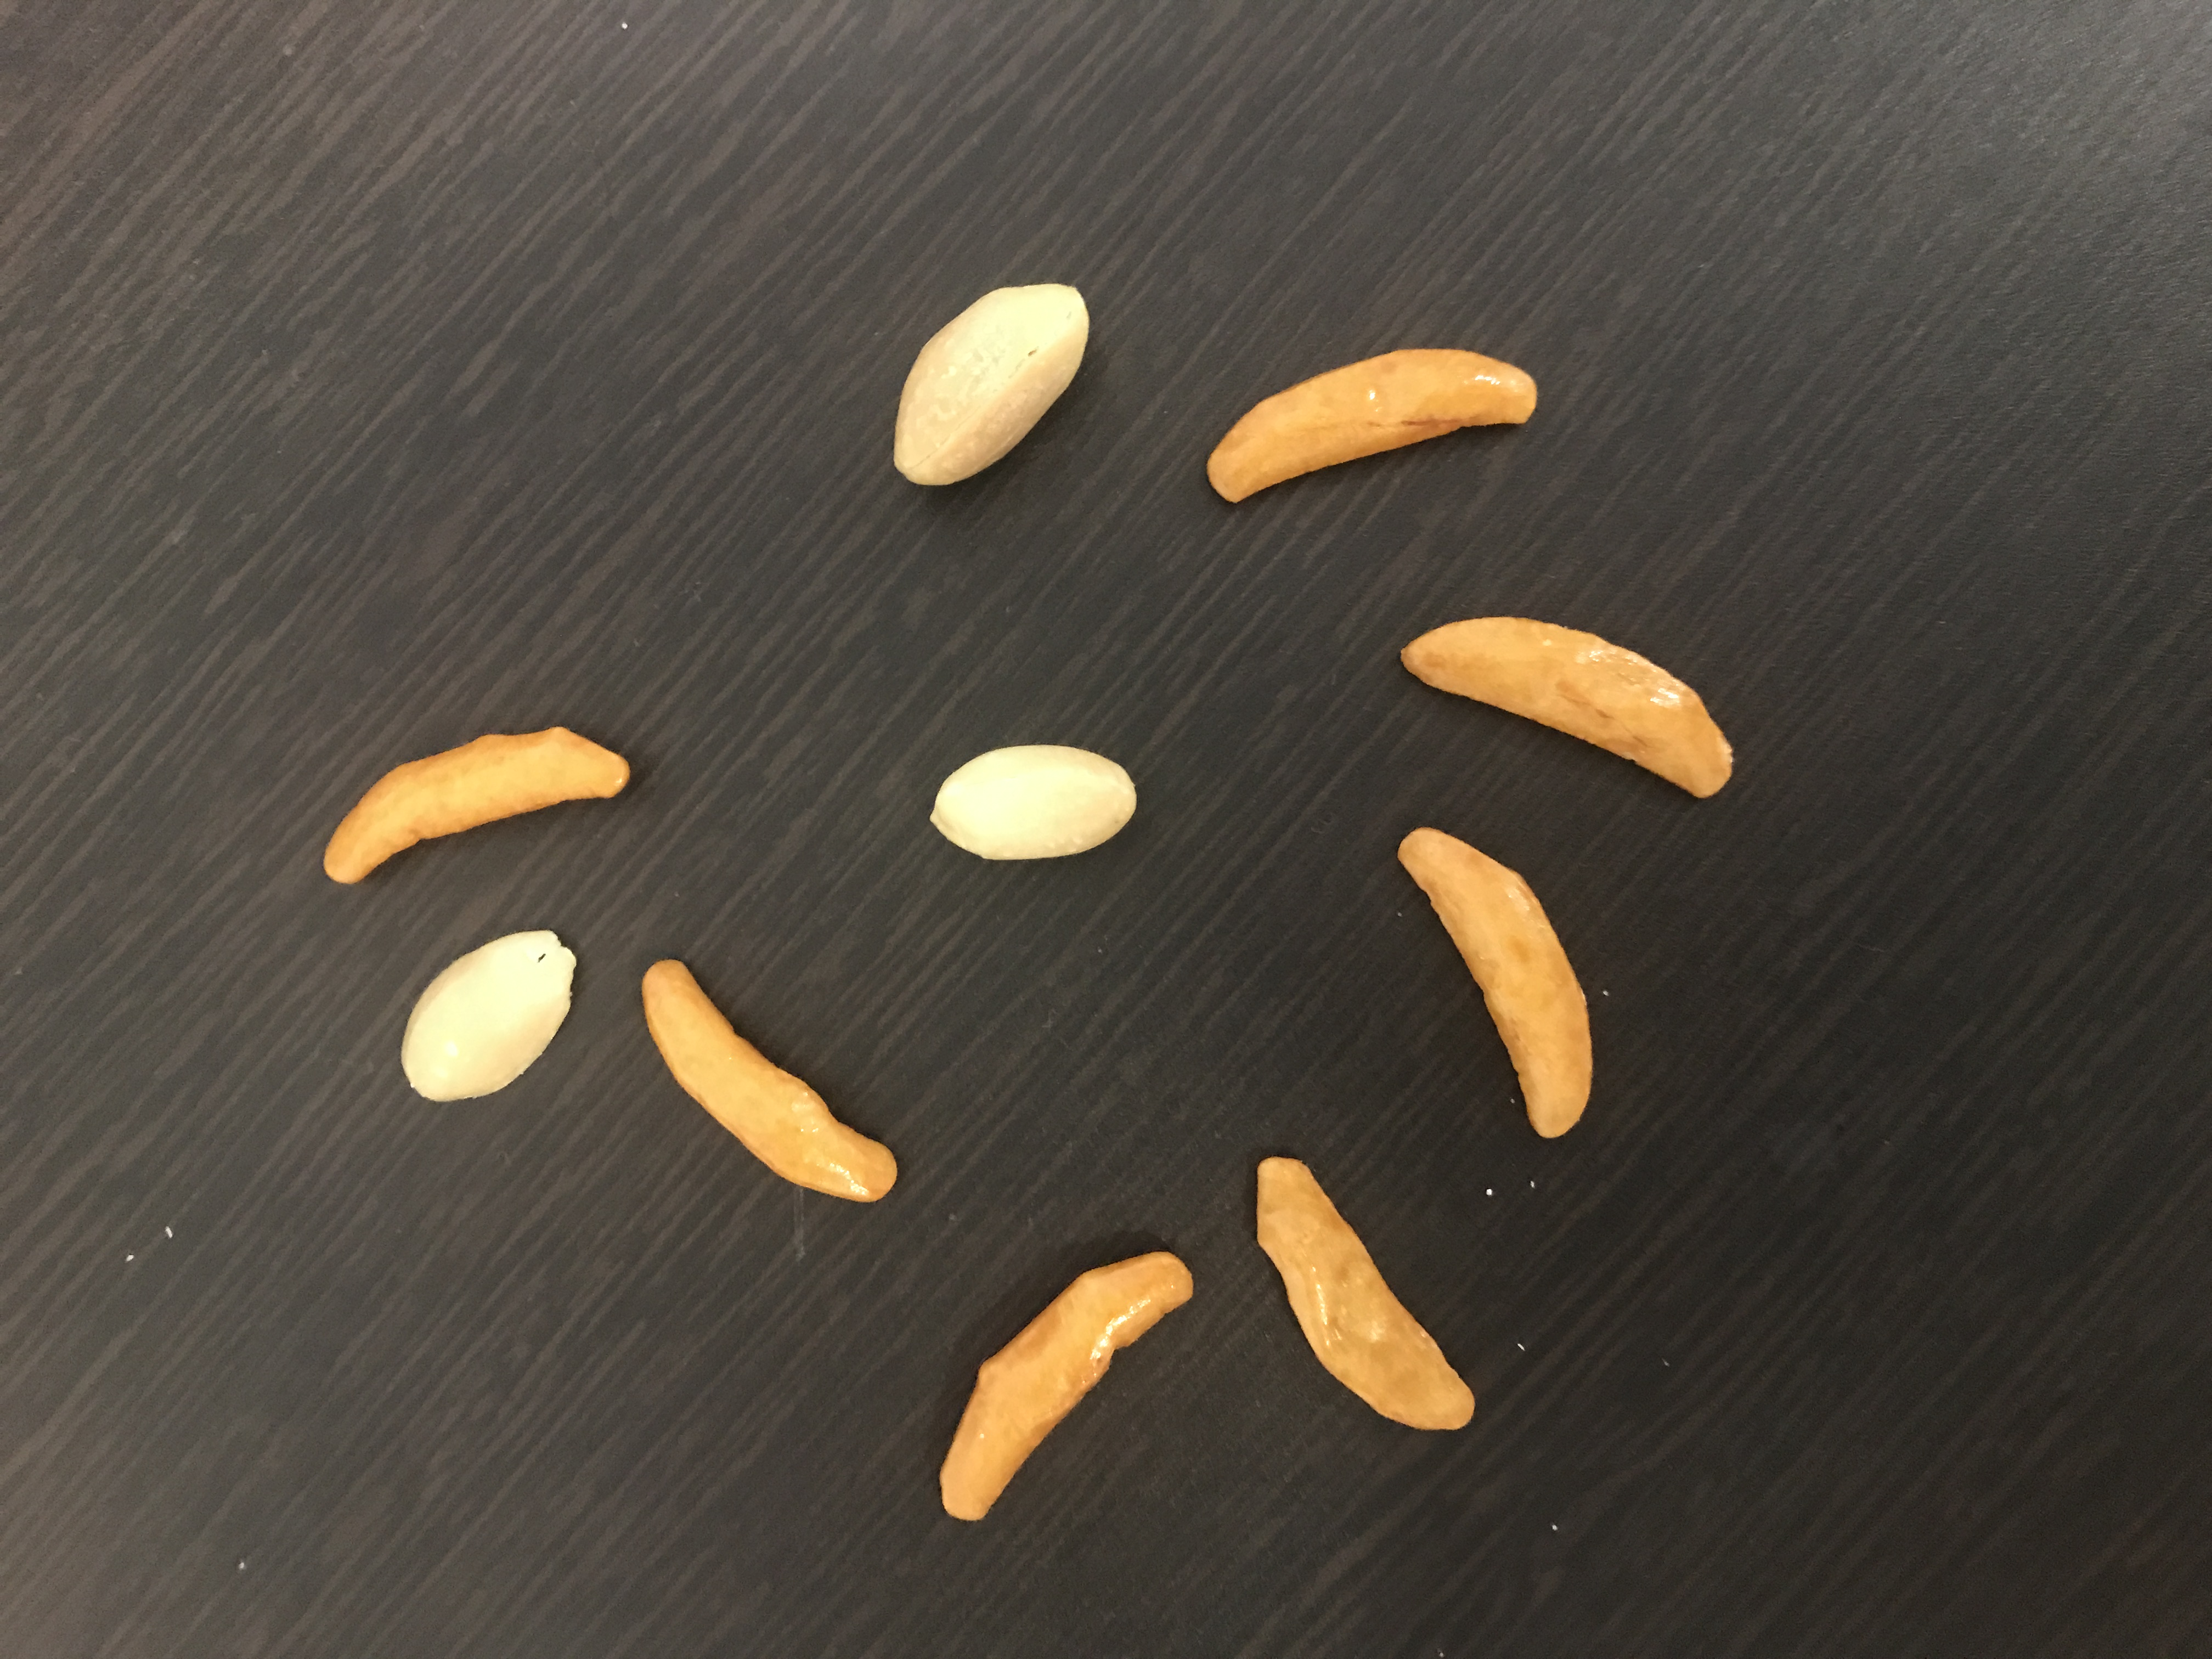peanut: (890, 277, 1094, 488), (401, 924, 580, 1115), (927, 742, 1150, 864)
